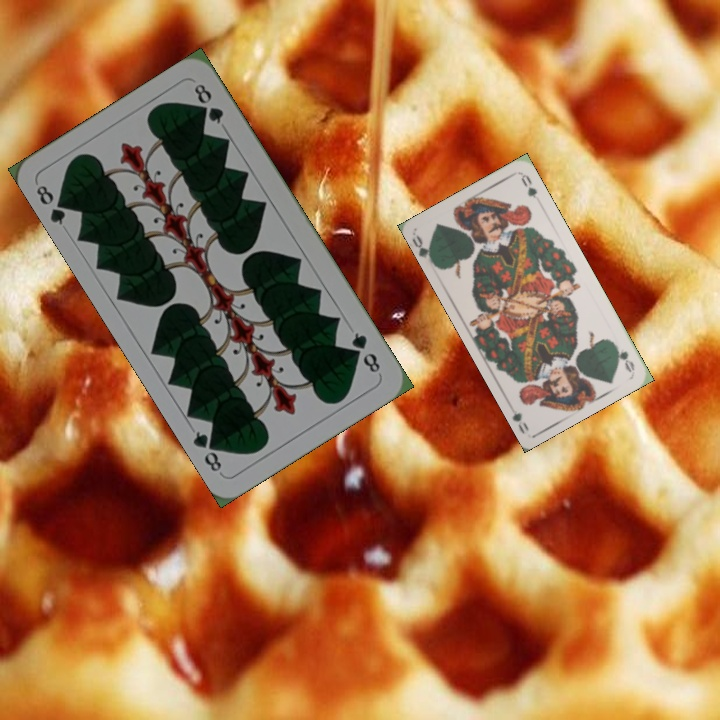G8: (32, 181, 73, 228), (347, 328, 383, 378)
GO: (409, 231, 437, 268), (609, 338, 637, 375)
